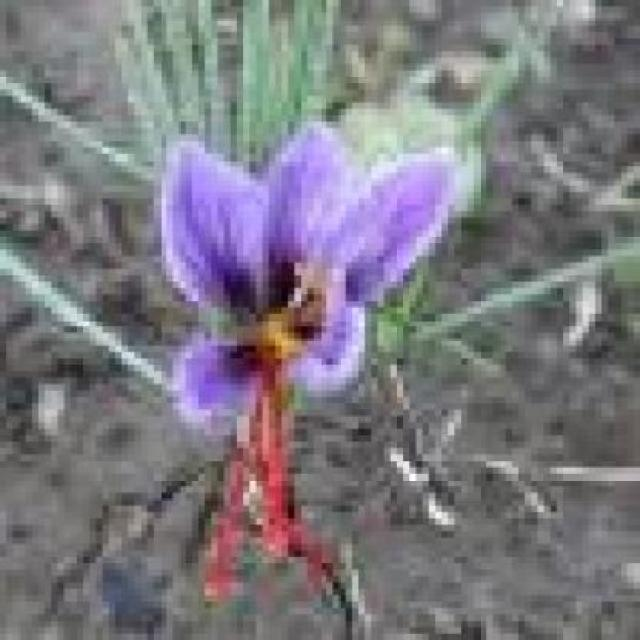saffron open: (161, 124, 458, 599)
